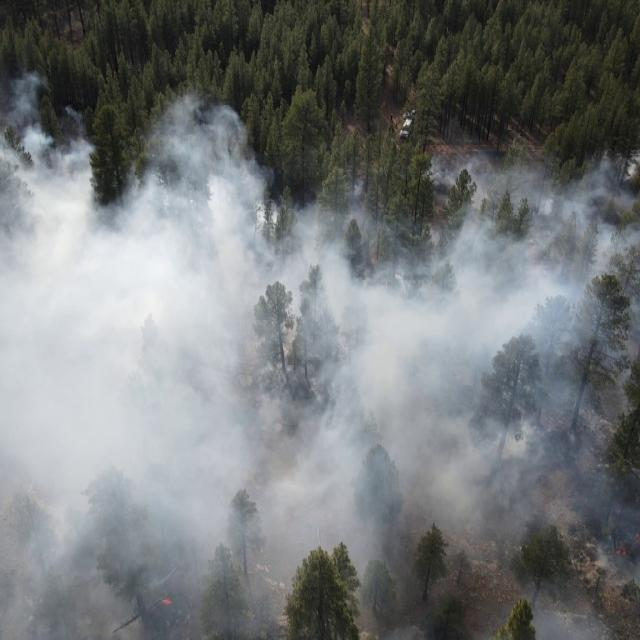fire: (610, 530, 640, 562), (154, 590, 180, 618)
smoke: (2, 197, 640, 640), (325, 130, 640, 198), (124, 90, 280, 200), (2, 71, 102, 198)
